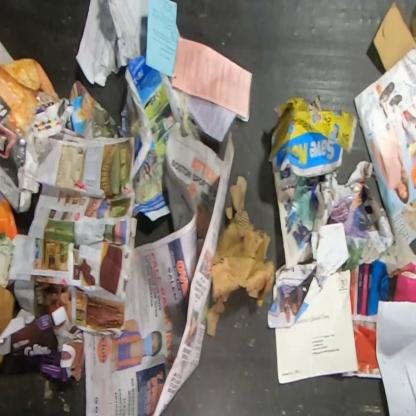cardboard: (205, 175, 274, 336), (372, 1, 415, 73), (0, 189, 18, 289), (0, 287, 15, 337)
soft_plastic: (410, 1, 415, 47)
